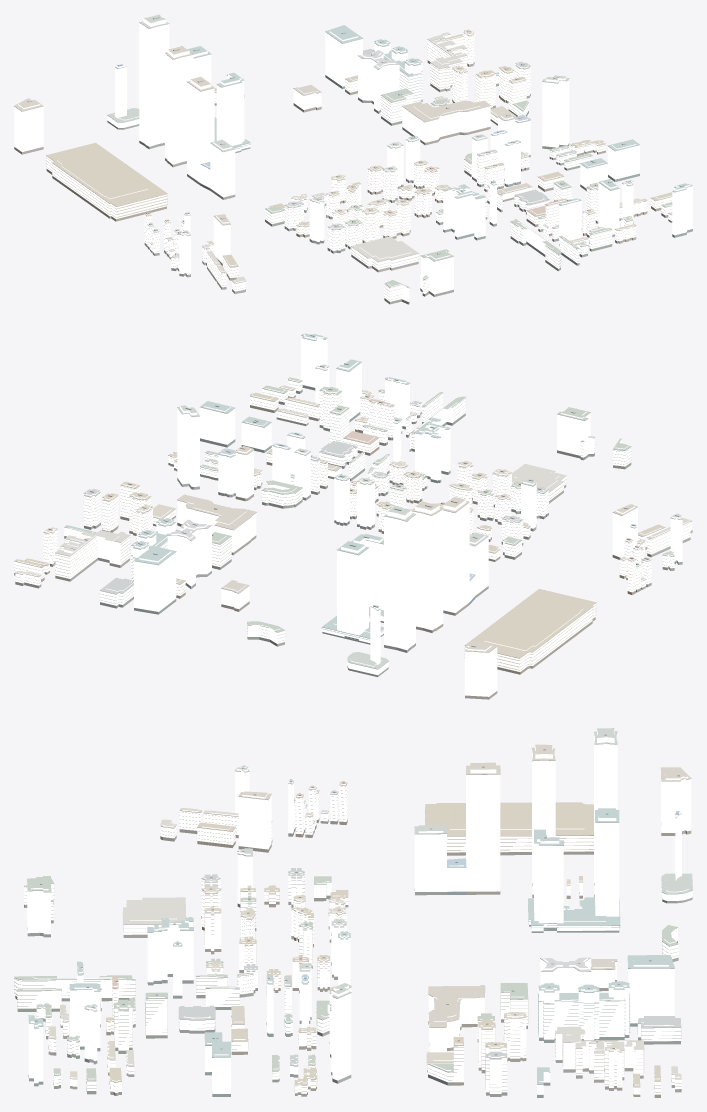
The model's file is buildings-3_-1-fine.glb.
3 views of the same model, one above another, from view 1: azimuth 30°, elevation 25°; view 2: azimuth 150°, elevation 25°; view 3: azimuth 270°, elevation 25° (orthographic). The views are drawn at different scales.
Parts seen in each view (by area): view 1: block_3_-1_office, block_3_-1_residential, block_3_-1_roof, block_3_-1_darkglass, block_3_-1_concrete, block_3_-1_steel; view 2: block_3_-1_office, block_3_-1_residential, block_3_-1_roof, block_3_-1_darkglass, block_3_-1_concrete, block_3_-1_steel; view 3: block_3_-1_office, block_3_-1_residential, block_3_-1_roof, block_3_-1_darkglass, block_3_-1_concrete, block_3_-1_steel.
Part boxes in pixels (<box>): block_3_-1_office: <box>14,18,692,294</box>; block_3_-1_residential: <box>46,30,672,301</box>; block_3_-1_roof: <box>14,14,692,296</box>; block_3_-1_darkglass: <box>14,60,692,304</box>; block_3_-1_concrete: <box>46,30,671,299</box>; block_3_-1_steel: <box>14,22,692,261</box>; block_3_-1_office: <box>64,334,682,696</box>; block_3_-1_residential: <box>14,378,692,671</box>; block_3_-1_roof: <box>14,333,692,695</box>; block_3_-1_darkglass: <box>14,385,692,699</box>; block_3_-1_concrete: <box>14,379,692,670</box>; block_3_-1_steel: <box>64,335,682,669</box>; block_3_-1_office: <box>27,730,692,1094</box>; block_3_-1_residential: <box>15,782,681,1094</box>; block_3_-1_roof: <box>14,728,692,1094</box>; block_3_-1_darkglass: <box>15,818,692,1097</box>; block_3_-1_concrete: <box>14,783,681,1092</box>; block_3_-1_steel: <box>28,732,692,1084</box>.
Bounding box in the file's own units: 657 × 175 × 674.
